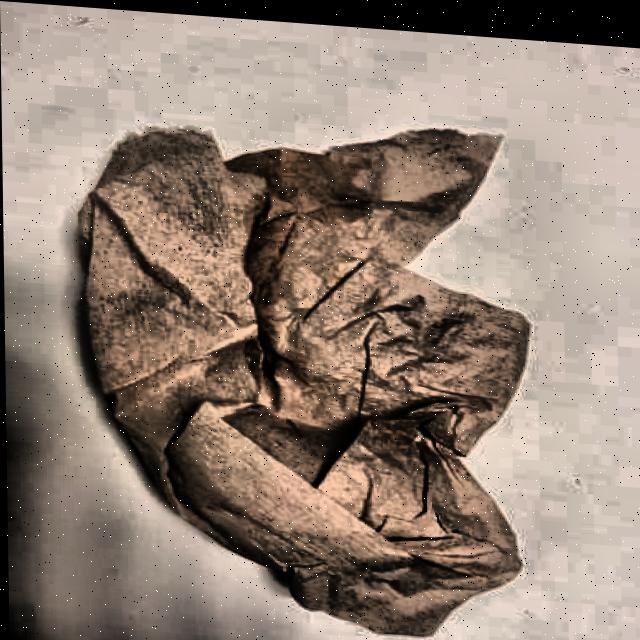paper: (74, 100, 537, 640)
